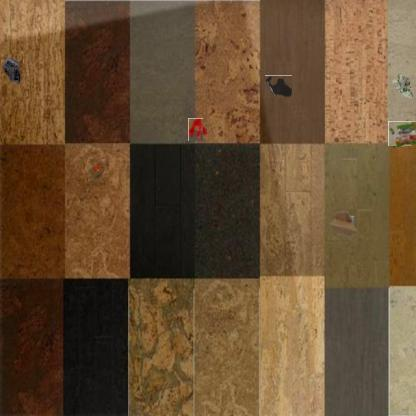dirty: (327, 208, 357, 240), (388, 120, 416, 147), (392, 73, 416, 101), (1, 54, 23, 84), (85, 157, 109, 183)
liquid: (264, 75, 292, 98), (186, 120, 205, 139)
